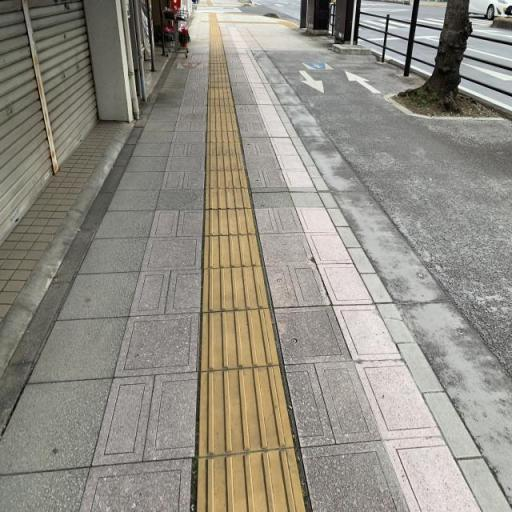line: (198, 366, 295, 456), (200, 309, 279, 371), (203, 266, 269, 312), (203, 235, 262, 267), (204, 208, 256, 237)
